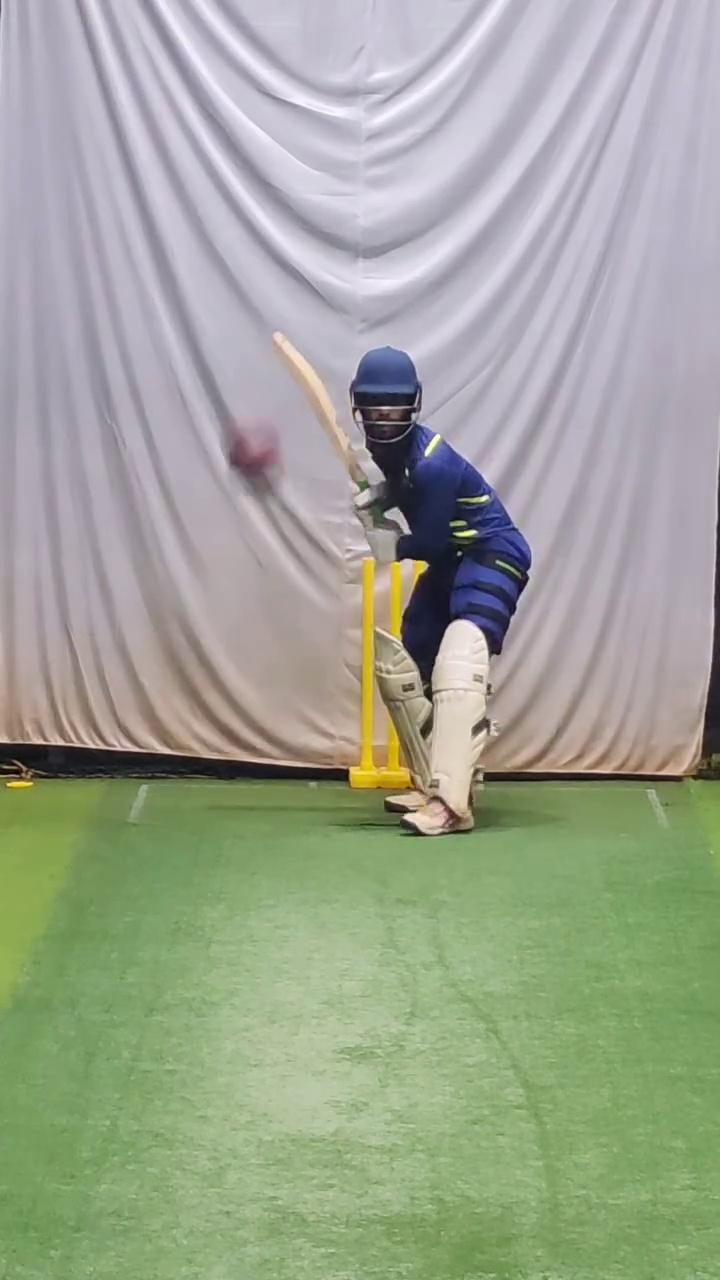bat: (263, 322, 371, 493)
